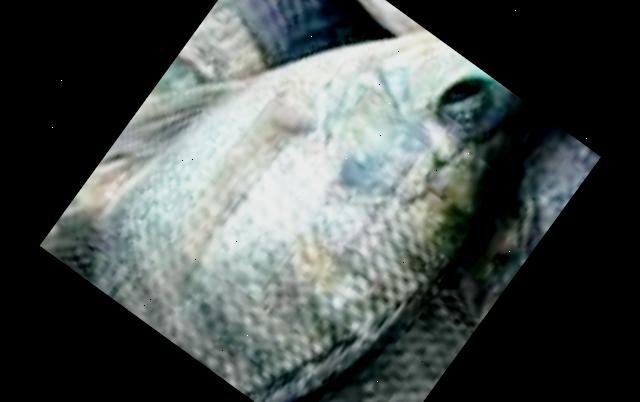Columnaris Disease: (39, 30, 526, 402)
